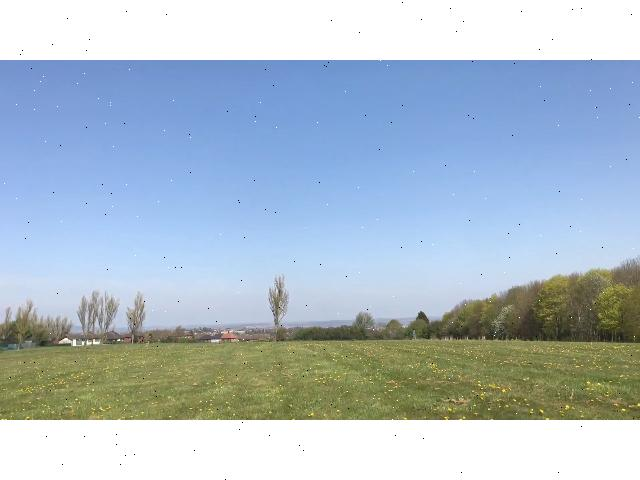Anti-Drone: (294, 220, 314, 232)
